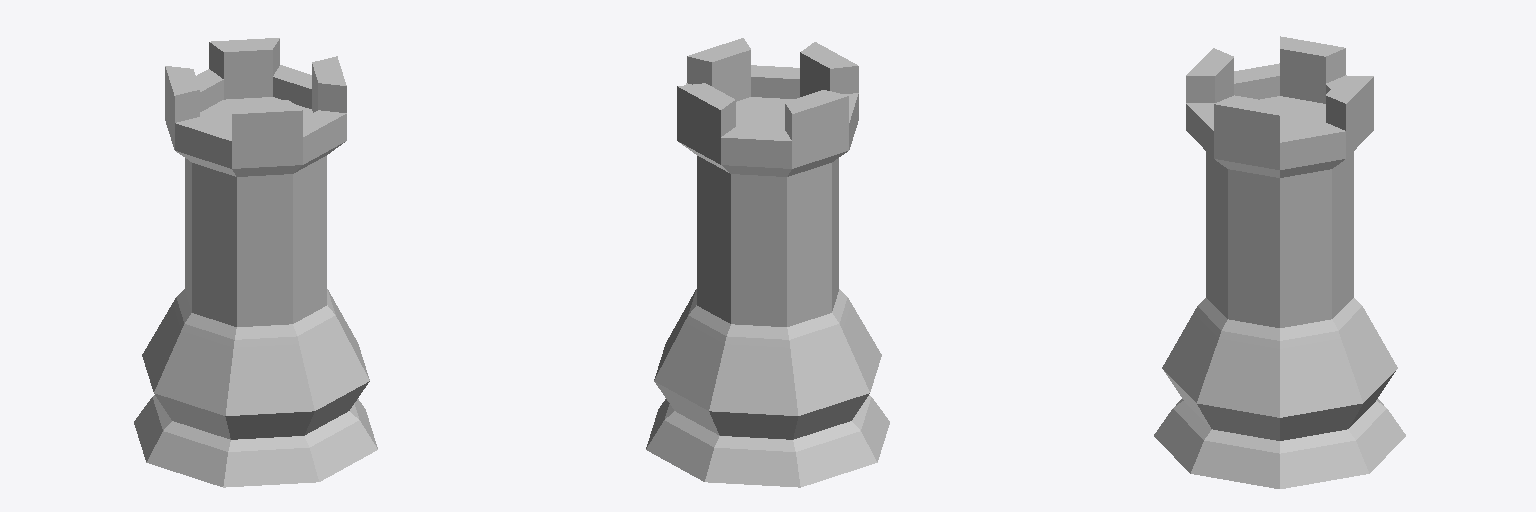
Rendered from Rook.obj.
The picture shows the model from 3 angles: view 1: azimuth 30°, elevation 25°; view 2: azimuth 150°, elevation 25°; view 3: azimuth 270°, elevation 25°; orthographic projection.
Visible parts, largest first — view 1: LP_Rook_Cylinder; view 2: LP_Rook_Cylinder; view 3: LP_Rook_Cylinder.
Boxes of the visible parts, box(x1,y1,x2,y2) form: LP_Rook_Cylinder: box(134, 38, 377, 487); LP_Rook_Cylinder: box(646, 38, 889, 487); LP_Rook_Cylinder: box(1154, 36, 1405, 488).
Bounding box in the file's own units: 4 × 6.28 × 4.